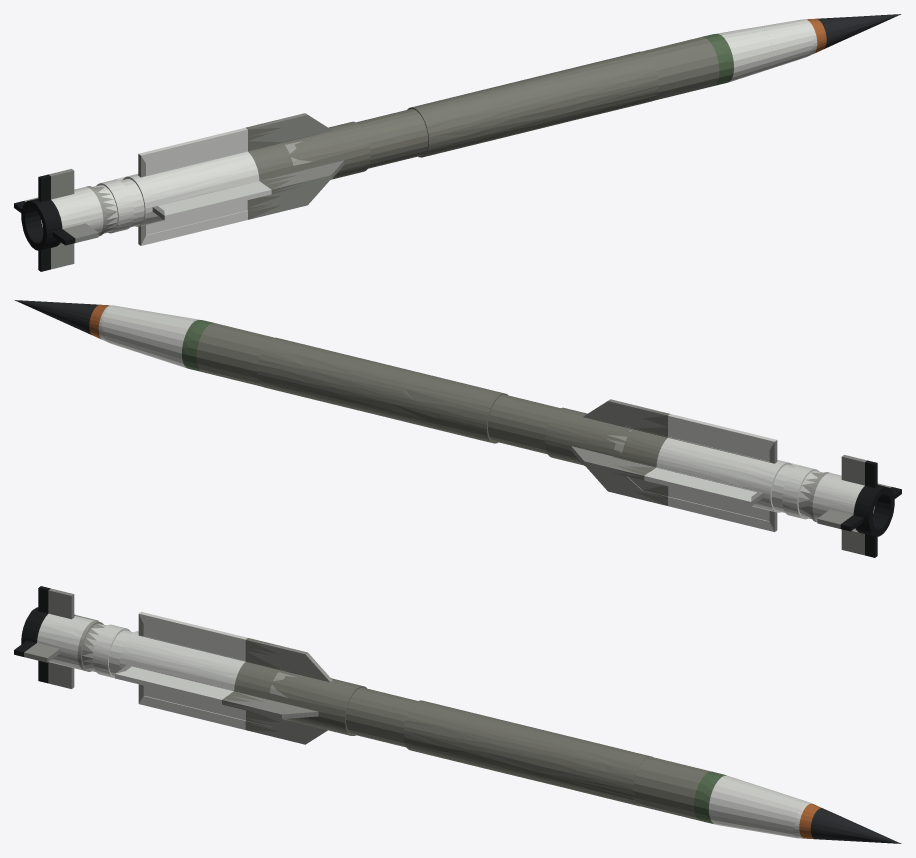
The model's file is pac-3-mse-colored.glb.
3 renders of one model, top to bottom at view 1: azimuth 30°, elevation 25°; view 2: azimuth 150°, elevation 25°; view 3: azimuth 330°, elevation 25°, orthographic.
Parts seen in each view (by area): view 1: PAC-3 olive grey motor casing, PAC-3 warm white ceramic coating, PAC-3 control surfaces, PAC-3 exhaust interior, PAC-3 graphite radome, PAC-3 green service band, PAC-3 structural seams; view 2: PAC-3 olive grey motor casing, PAC-3 warm white ceramic coating, PAC-3 control surfaces, PAC-3 exhaust interior, PAC-3 graphite radome, PAC-3 green service band, PAC-3 structural seams; view 3: PAC-3 olive grey motor casing, PAC-3 warm white ceramic coating, PAC-3 control surfaces, PAC-3 graphite radome, PAC-3 exhaust interior, PAC-3 structural seams, PAC-3 green service band.
Part boxes in pixels (left/top/right/bottom): PAC-3 olive grey motor casing: left=246, top=37, right=719, bottom=219; PAC-3 warm white ceramic coating: left=41, top=19, right=817, bottom=246; PAC-3 control surfaces: left=24, top=113, right=344, bottom=269; PAC-3 exhaust interior: left=14, top=174, right=75, bottom=271; PAC-3 graphite radome: left=816, top=14, right=901, bottom=48; PAC-3 green service band: left=702, top=34, right=733, bottom=85; PAC-3 structural seams: left=86, top=141, right=312, bottom=236; PAC-3 olive grey motor casing: left=196, top=323, right=669, bottom=505; PAC-3 warm white ceramic coating: left=98, top=305, right=874, bottom=532; PAC-3 control surfaces: left=571, top=399, right=891, bottom=555; PAC-3 exhaust interior: left=840, top=460, right=901, bottom=557; PAC-3 graphite radome: left=14, top=300, right=99, bottom=334; PAC-3 green service band: left=182, top=320, right=213, bottom=371; PAC-3 structural seams: left=606, top=426, right=829, bottom=522; PAC-3 olive grey motor casing: left=222, top=638, right=712, bottom=820; PAC-3 warm white ceramic coating: left=37, top=611, right=812, bottom=838; PAC-3 control surfaces: left=24, top=588, right=332, bottom=744; PAC-3 graphite radome: left=810, top=808, right=901, bottom=843; PAC-3 exhaust interior: left=14, top=586, right=74, bottom=683; PAC-3 structural seams: left=77, top=621, right=296, bottom=720; PAC-3 green service band: left=694, top=771, right=726, bottom=823.
Bounding box in the file's own units: 5.2 × 0.5334 × 0.5333.
